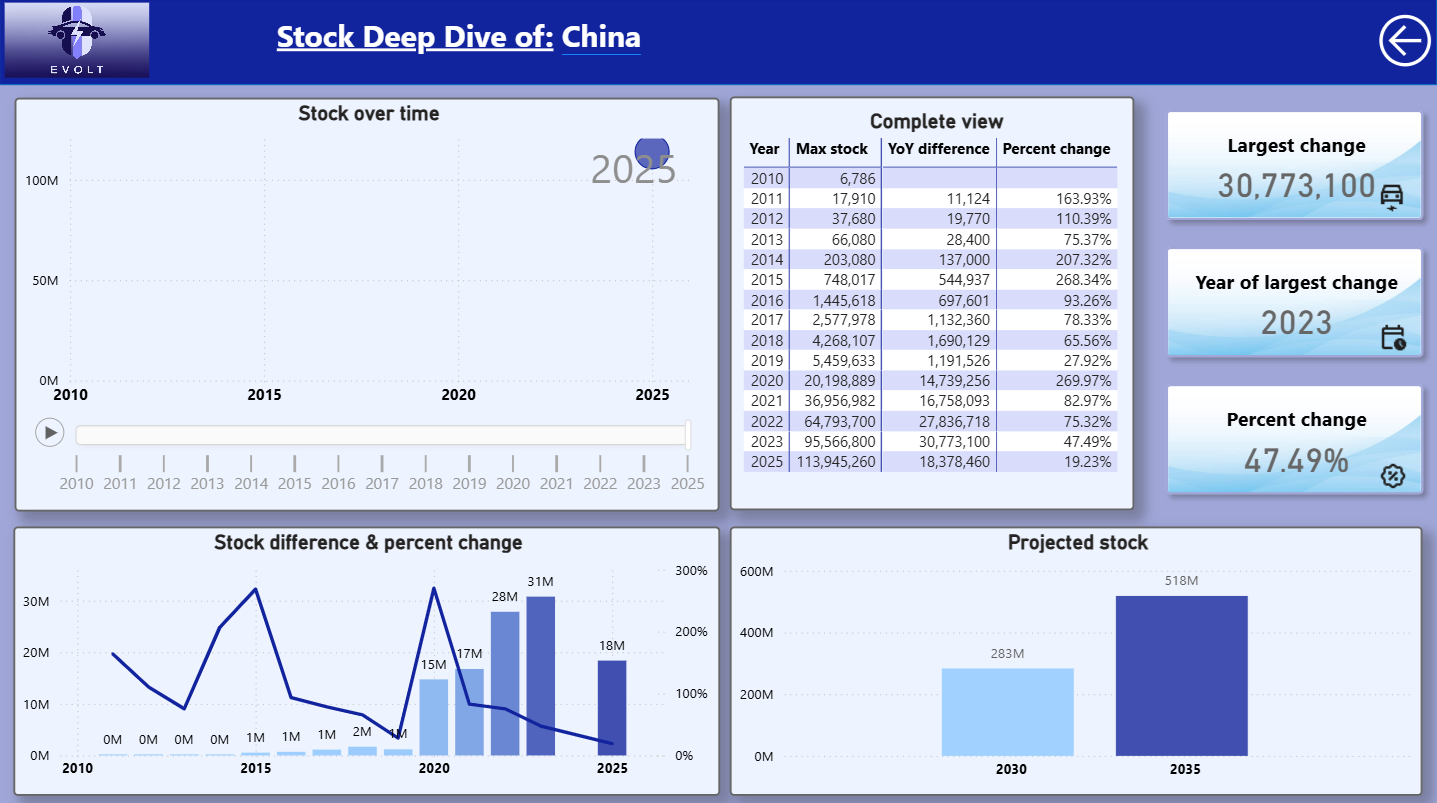

Layout of this report page (visuals, bound fields, positions):
{"tool":"powerbi","page":{"name":"Stocks Deep Dive","canvas":[1280,720],"ordinal":2},"visuals":[{"type":"shape","box":[0,0,1279.1,78.3],"z":0},{"type":"cardVisual","title":"Highlights","fields":{"Data":["Max(EV_Data.YOY_Stock_Difference)","Measure_Table.mLargest_Stock_Change_Year","Measure_Table.mLargest_Stock_Change_Perc"]},"box":[1020.7,88.9,258.4,368.3],"z":0,"group":"g1"},{"type":"textbox","box":[138.2,10.2,541.3,55],"z":1000},{"type":"image","box":[1212.4,285.3,53.8,36.2],"z":1000,"group":"g1"},{"type":"actionButton","box":[1220.8,0,58.9,76.8],"z":2000},{"type":"image","box":[1212.4,161.4,52.6,36.2],"z":2000,"group":"g1"},{"type":"scatterChart","title":"Stock over time","fields":{"Play":["EV_Data.year"],"Size":["Max(EV_Data.Total_Stock)"],"Category":["EV_Data.region"],"Y":["Max(EV_Data.Total_Stock)"],"X":["Max(EV_Data.year)"]},"box":[13.3,89.4,627.1,368.3],"z":3000},{"type":"image","box":[1213.6,408.1,52.6,36.2],"z":3000,"group":"g1"},{"type":"tableEx","title":"Complete view","fields":{"Values":["EV_Data.year","Max(EV_Data.Total_Stock)","Max(EV_Data.YOY_Stock_Difference)","Max(EV_Data.Percent_Change_Stock)"]},"box":[650.1,88.9,360.1,368.3],"z":4000},{"type":"lineClusteredColumnComboChart","title":"Stock difference & percent change","fields":{"Y2":["Max(EV_Data.Percent_Change_Stock)"],"Category":["EV_Data.year"],"Y":["Max(EV_Data.YOY_Stock_Difference)"]},"box":[12.8,470.9,628.3,239.3],"z":5000},{"type":"image","box":[0,0,138.2,76.8],"z":6000},{"type":"group","id":"g1","title":"Group 1","box":[1020.7,88.9,258.4,368.3],"z":7000},{"type":"clusteredColumnChart","title":"Projected stock","fields":{"Category":["EV_Data.year"],"Y":["Max(EV_Data.Total_Stock)"]},"box":[650.1,471.2,616.1,239.7],"z":8000}]}

Visuals, with their boxes in screenshot pixels (x1, y1, x2, y2), scaled from the page's 1280x720 canvas onto the 1437x803 screenshot:
shape: (left=0, top=0, right=1436, bottom=87)
"Highlights" cardVisual: (left=1146, top=99, right=1436, bottom=510)
textbox: (left=155, top=11, right=763, bottom=73)
image: (left=1361, top=318, right=1422, bottom=359)
actionButton: (left=1371, top=0, right=1436, bottom=86)
image: (left=1361, top=180, right=1420, bottom=220)
"Stock over time" scatterChart: (left=15, top=100, right=719, bottom=510)
image: (left=1362, top=455, right=1422, bottom=496)
"Complete view" tableEx: (left=730, top=99, right=1134, bottom=510)
"Stock difference & percent change" lineClusteredColumnComboChart: (left=14, top=525, right=720, bottom=792)
image: (left=0, top=0, right=155, bottom=86)
"Group 1" group: (left=1146, top=99, right=1436, bottom=510)
"Projected stock" clusteredColumnChart: (left=730, top=526, right=1422, bottom=793)
